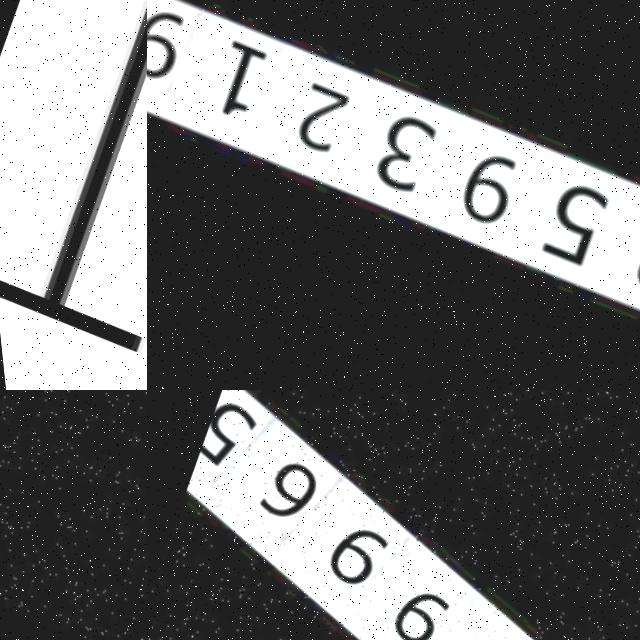1: (192, 34, 284, 138)
2: (275, 77, 360, 173), (604, 210, 640, 321)
3: (353, 106, 448, 213)
5: (181, 390, 287, 501), (518, 174, 619, 287)
6: (227, 433, 352, 560)
9: (290, 494, 420, 629), (437, 143, 530, 247), (356, 561, 478, 640), (147, 0, 198, 94)
N: (0, 0, 147, 390)
